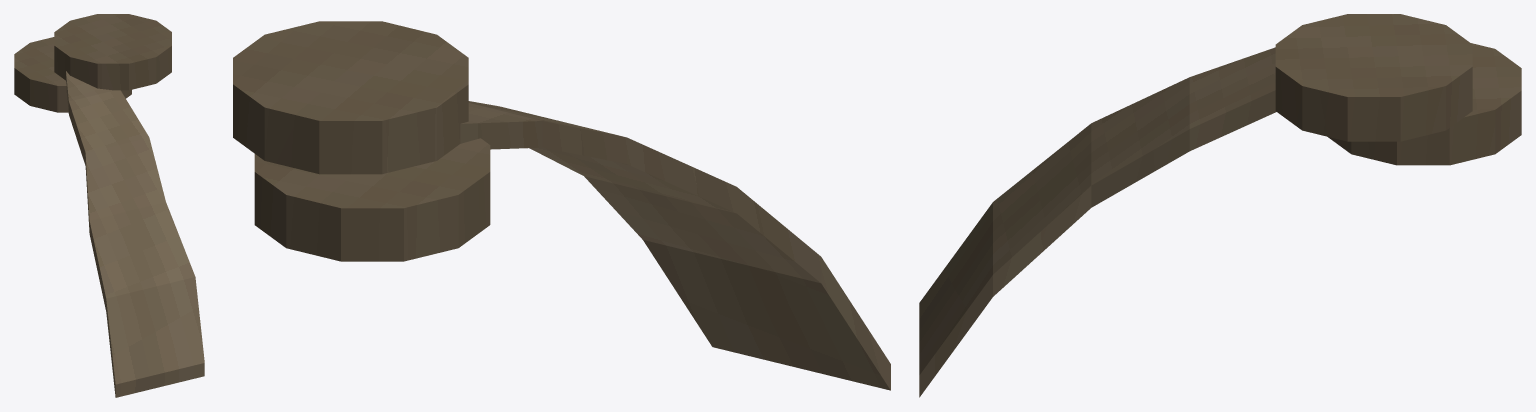
Rendered from ForerunnerScarf.obj.
The picture shows the model from 3 angles, left to right: view 1: azimuth 30°, elevation 25°; view 2: azimuth 150°, elevation 25°; view 3: azimuth 270°, elevation 25°; orthographic projection. The views are drawn at different scales.
Parts seen in each view (by area): view 1: cuboid, cylinder; view 2: cylinder, cuboid; view 3: cylinder, cuboid.
Part boxes in pixels (<box>): cuboid: <box>66,71,204,397</box>; cylinder: <box>14,14,171,112</box>; cylinder: <box>233,21,490,261</box>; cuboid: <box>460,101,890,390</box>; cylinder: <box>1275,14,1521,165</box>; cuboid: <box>919,47,1276,397</box>.
Size of the model in its own units: 0.4531 by 0.5312 by 0.7656.
